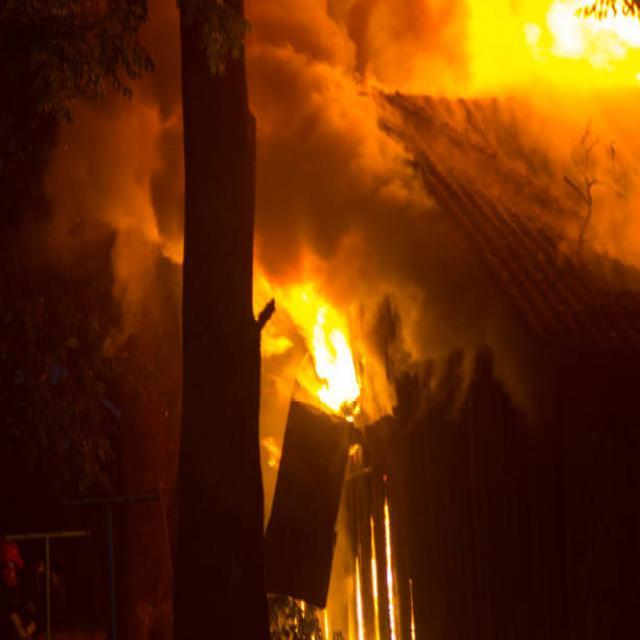Fire: (290, 306, 360, 416), (538, 0, 640, 72)
Smoke: (251, 0, 544, 408), (44, 74, 196, 321), (538, 76, 640, 290)
